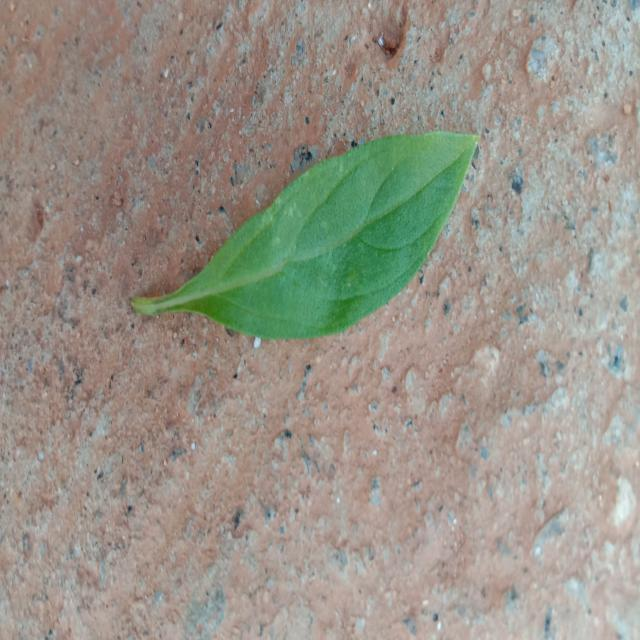kamakasturi: (132, 133, 478, 338)
